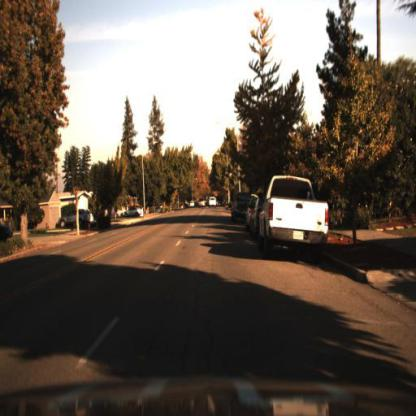car: (259, 172, 333, 271), (56, 206, 96, 232), (59, 208, 97, 227), (123, 203, 146, 220)
